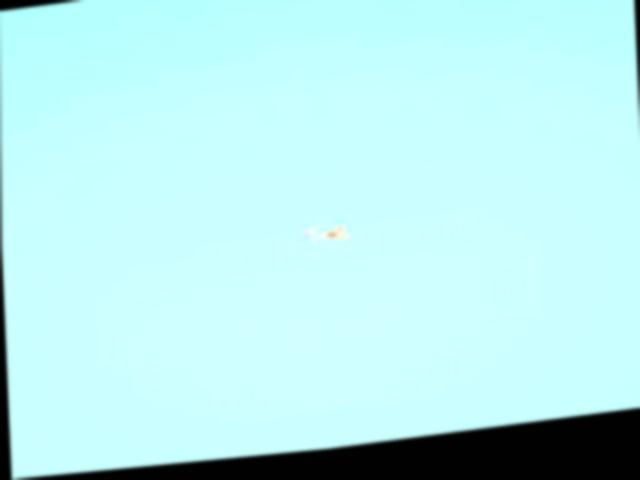iha: (298, 226, 353, 256)
